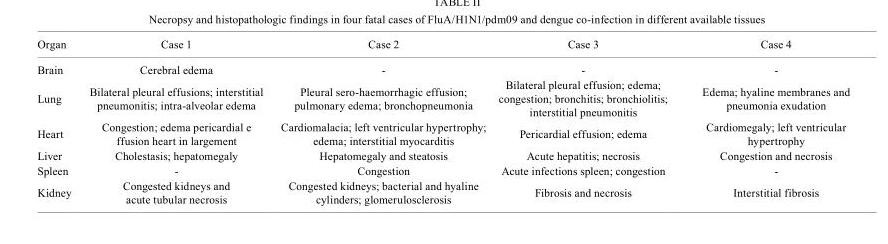table: (37, 37, 850, 204)
table column: (272, 37, 492, 204), (492, 37, 685, 204), (80, 37, 272, 204), (685, 37, 850, 204), (37, 37, 80, 204)
table column header: (37, 37, 850, 56)
table row: (37, 76, 850, 118), (37, 118, 850, 147), (37, 177, 850, 204), (37, 56, 850, 76), (37, 37, 850, 56), (37, 147, 850, 162), (37, 162, 850, 177)
